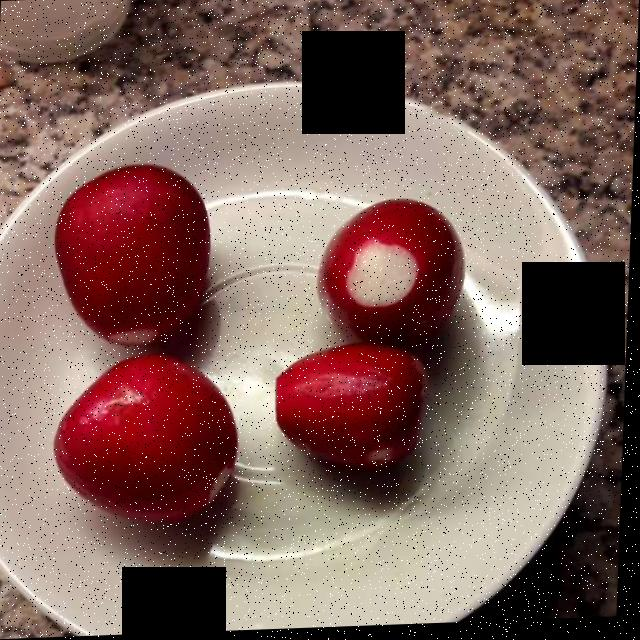red-radish: (56, 174, 464, 533)
